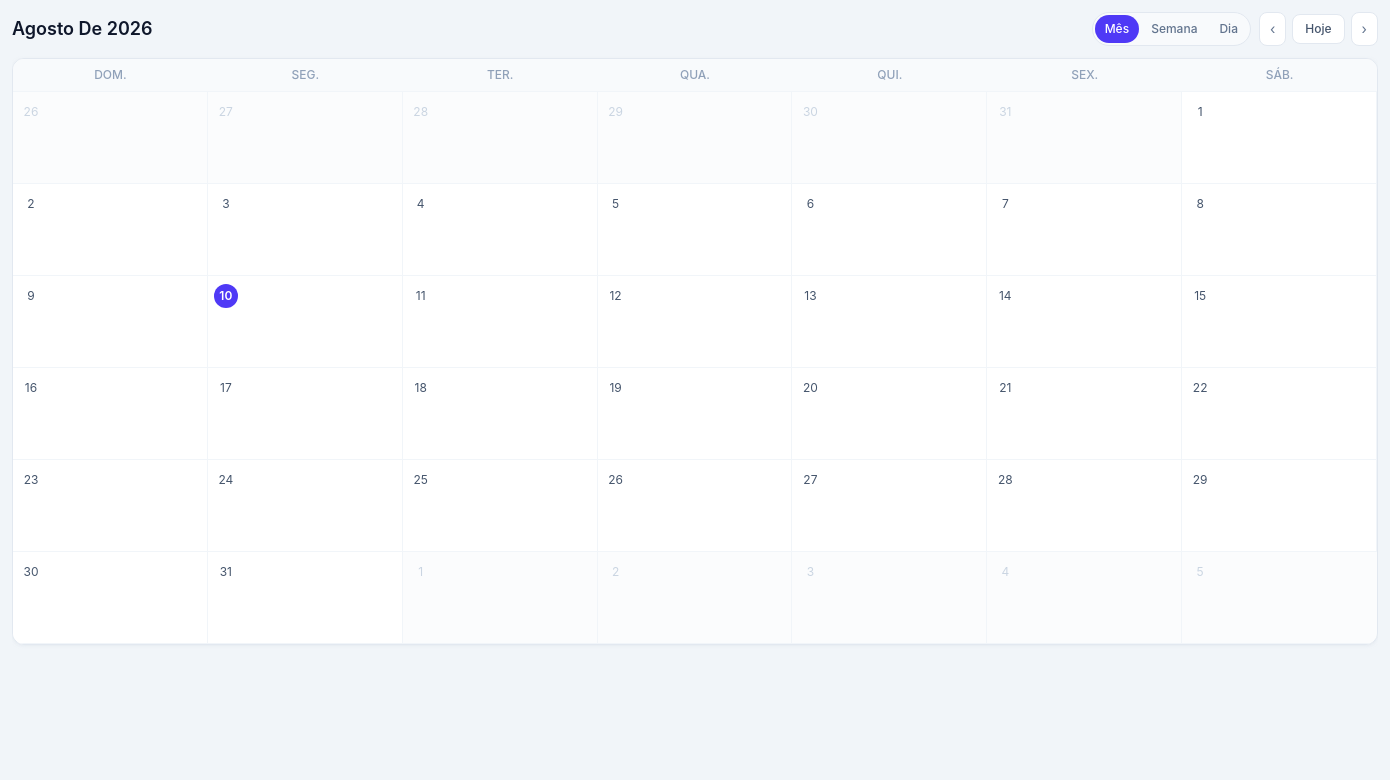
Test case: CalendarView › mostra estado vazio na visão de dia quando não há eventos
Click the button "Dia". click: point(1229, 29)
box: top-left (1210, 15), bottom-right (1248, 43)
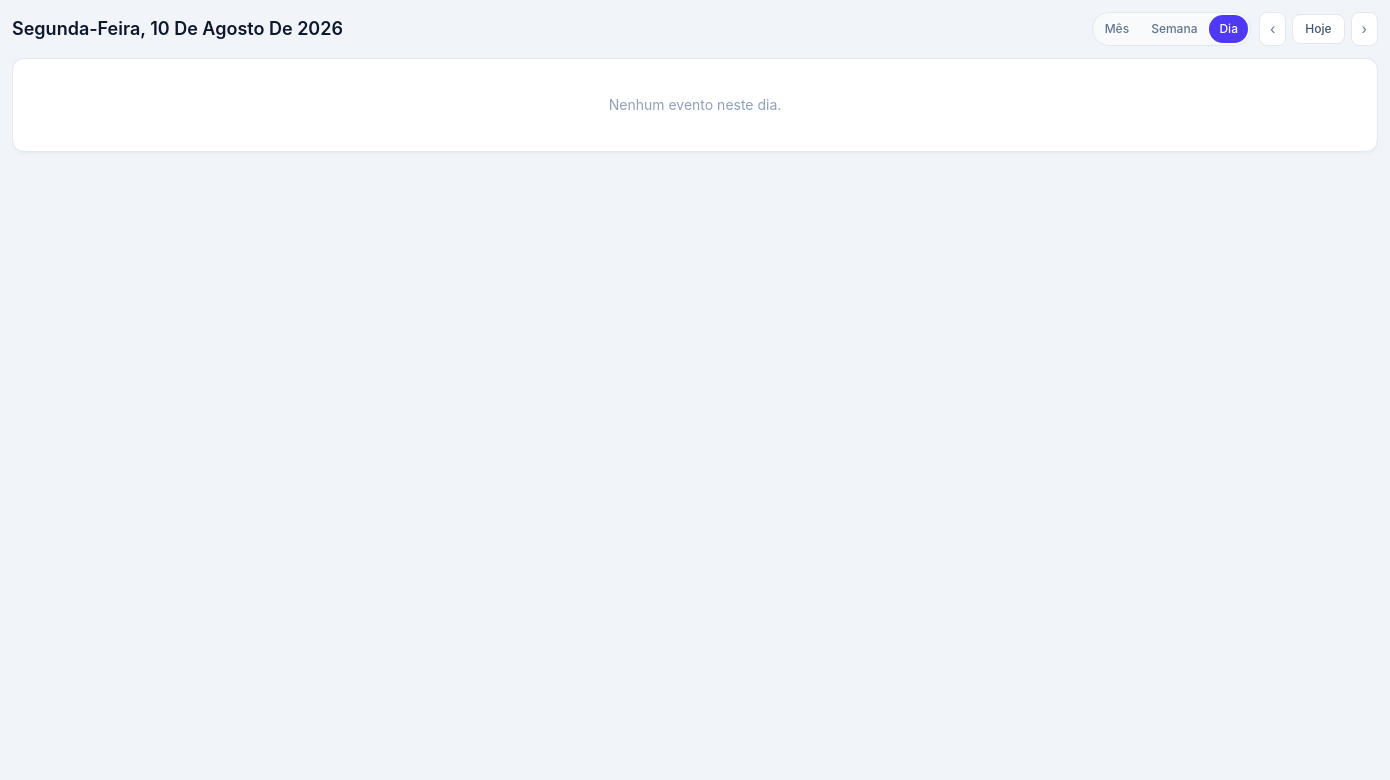
Expected: the text "Nenhum evento neste dia." is shown, top-left (609, 96), bottom-right (781, 113)
